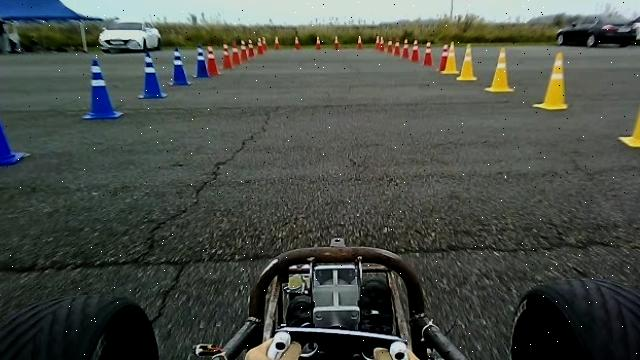blue cone: (82, 58, 124, 119), (137, 49, 167, 99), (168, 46, 191, 86), (191, 44, 211, 78)
red cone: (206, 44, 221, 75), (229, 40, 241, 65), (222, 43, 233, 68), (423, 40, 433, 66), (410, 39, 420, 62), (239, 39, 249, 60)
yellow cone: (532, 51, 568, 110), (617, 75, 640, 148), (484, 46, 514, 93), (456, 42, 477, 80)
